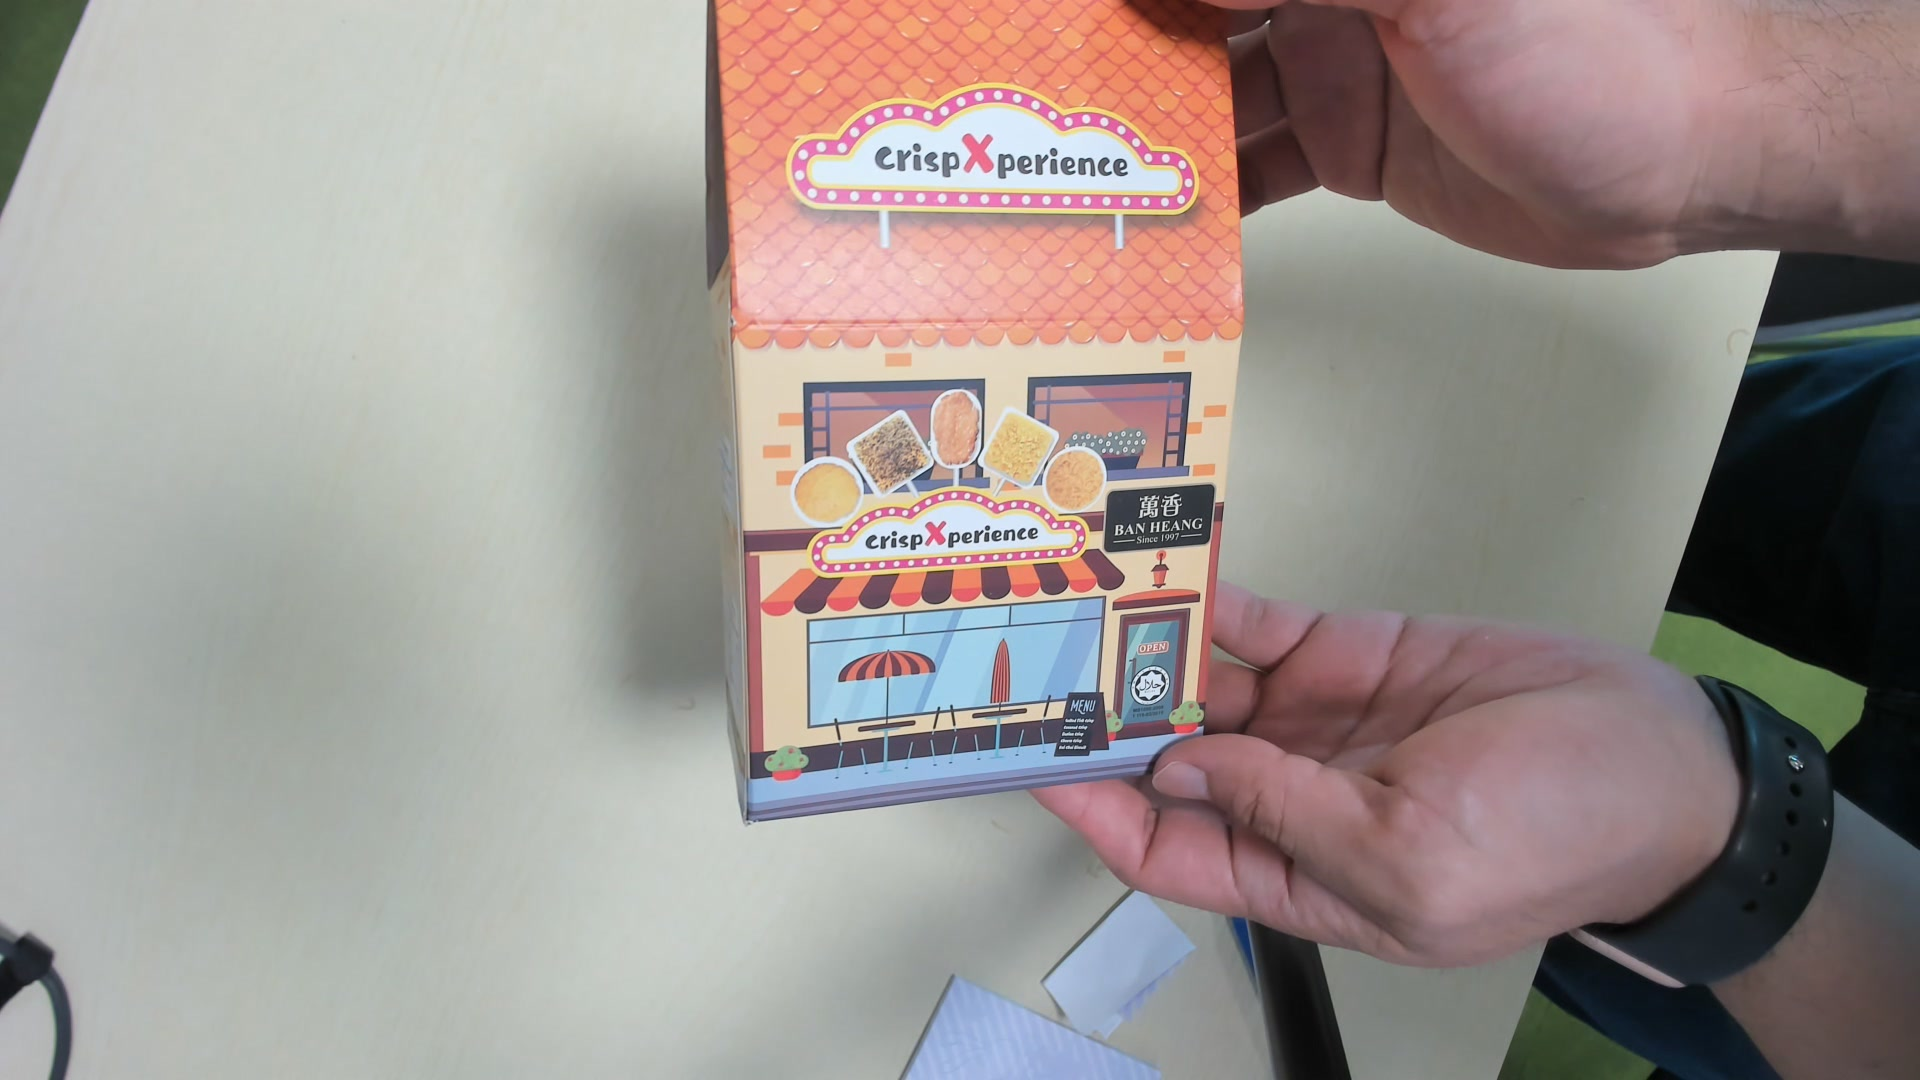SweetsChocolatesOthers_0-99g_Halal_Nonhealthy: (700, 5, 1257, 819)
